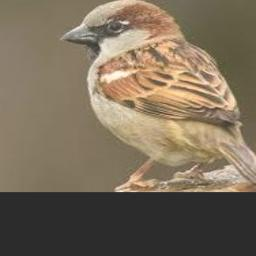Sparrow: (59, 0, 256, 189)
